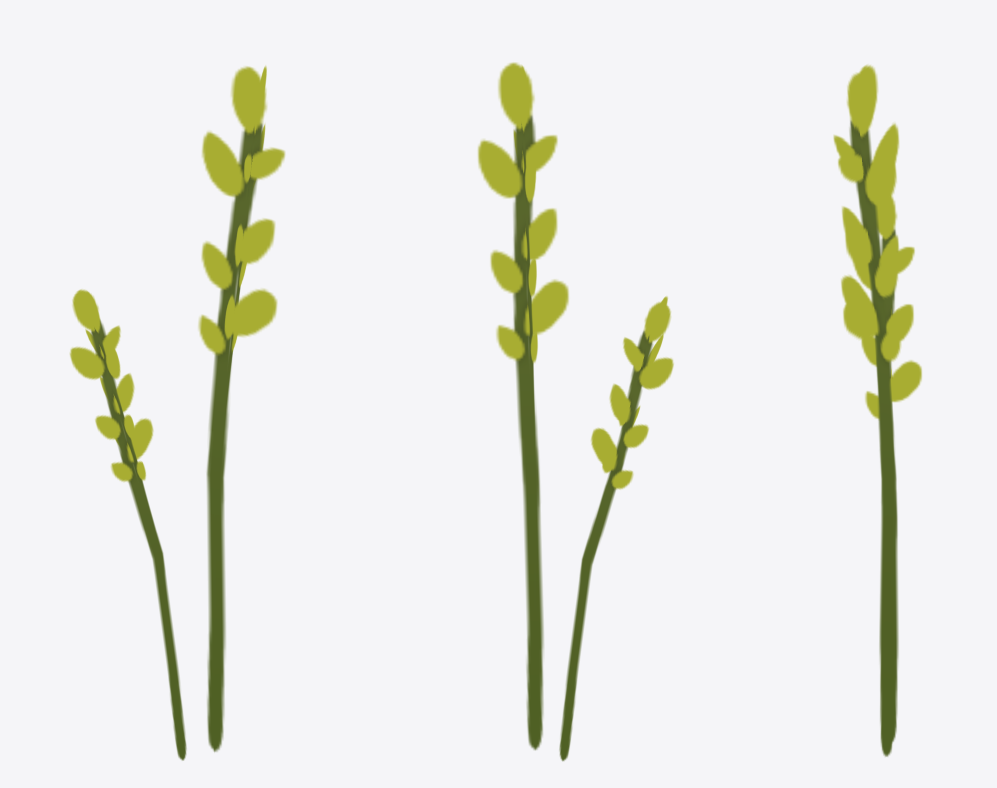
File: flower06.glb
The picture shows the model from 3 angles, left to right: view 1: azimuth 30°, elevation 25°; view 2: azimuth 150°, elevation 25°; view 3: azimuth 270°, elevation 25°; orthographic projection. The views are drawn at different scales.
Visible parts, largest first — view 1: Flower06; view 2: Flower06; view 3: Flower06.
Part boxes in pixels (x1=…): Flower06: x1=70, y1=65, x2=285, y2=760; Flower06: x1=478, y1=62, x2=673, y2=761; Flower06: x1=833, y1=64, x2=921, y2=756.
Size of the model in its own units: 0.1962 by 0.4338 by 0.1211.
Materials: 1 (1 with a texture image).
